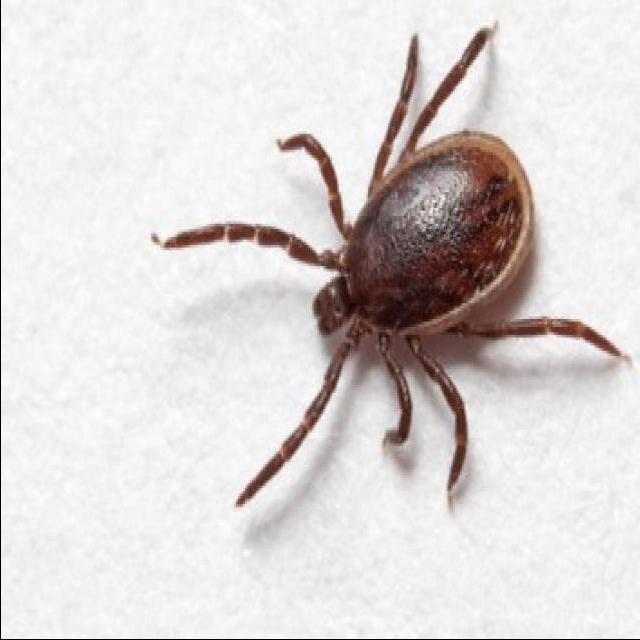Ixodes Ricinus-M: (152, 29, 633, 510)
